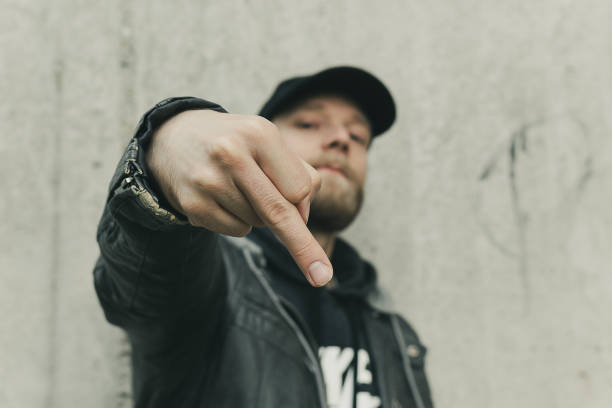insulting_gesture: (144, 107, 335, 288)
